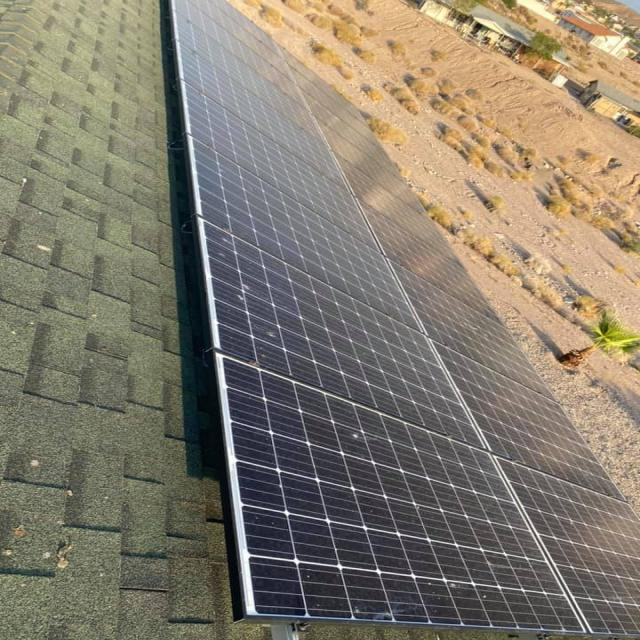dust-solar-panel: (182, 82, 581, 621)
